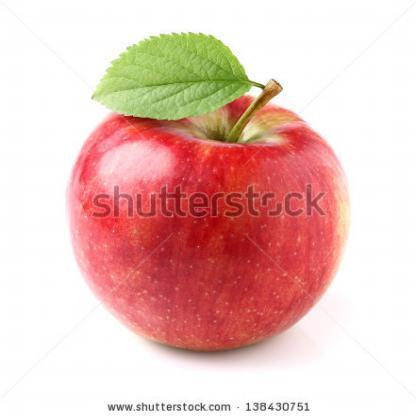Apple leaf: (77, 26, 268, 123)
